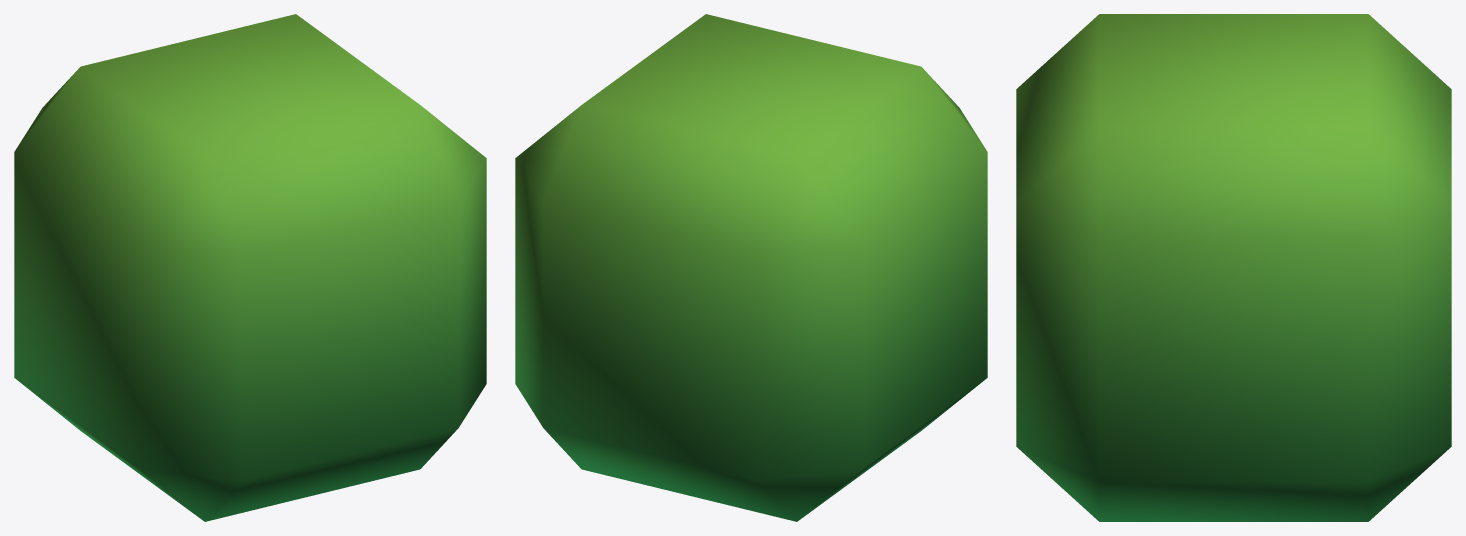
Rendered from trees.glb.
3 renders of one model, left to right at view 1: azimuth 30°, elevation 25°; view 2: azimuth 150°, elevation 25°; view 3: azimuth 270°, elevation 25°, orthographic. The views are drawn at different scales.
Visible parts, largest first — view 1: T_5; view 2: T_5; view 3: T_5.
Part boxes in pixels (x1,y1,x2,y2): T_5: (14,14,486,521); T_5: (515,14,987,521); T_5: (1016,14,1451,521).
Size of the model in its own units: 1 by 1 by 1.
Materials: 5 (5 with a texture image).
